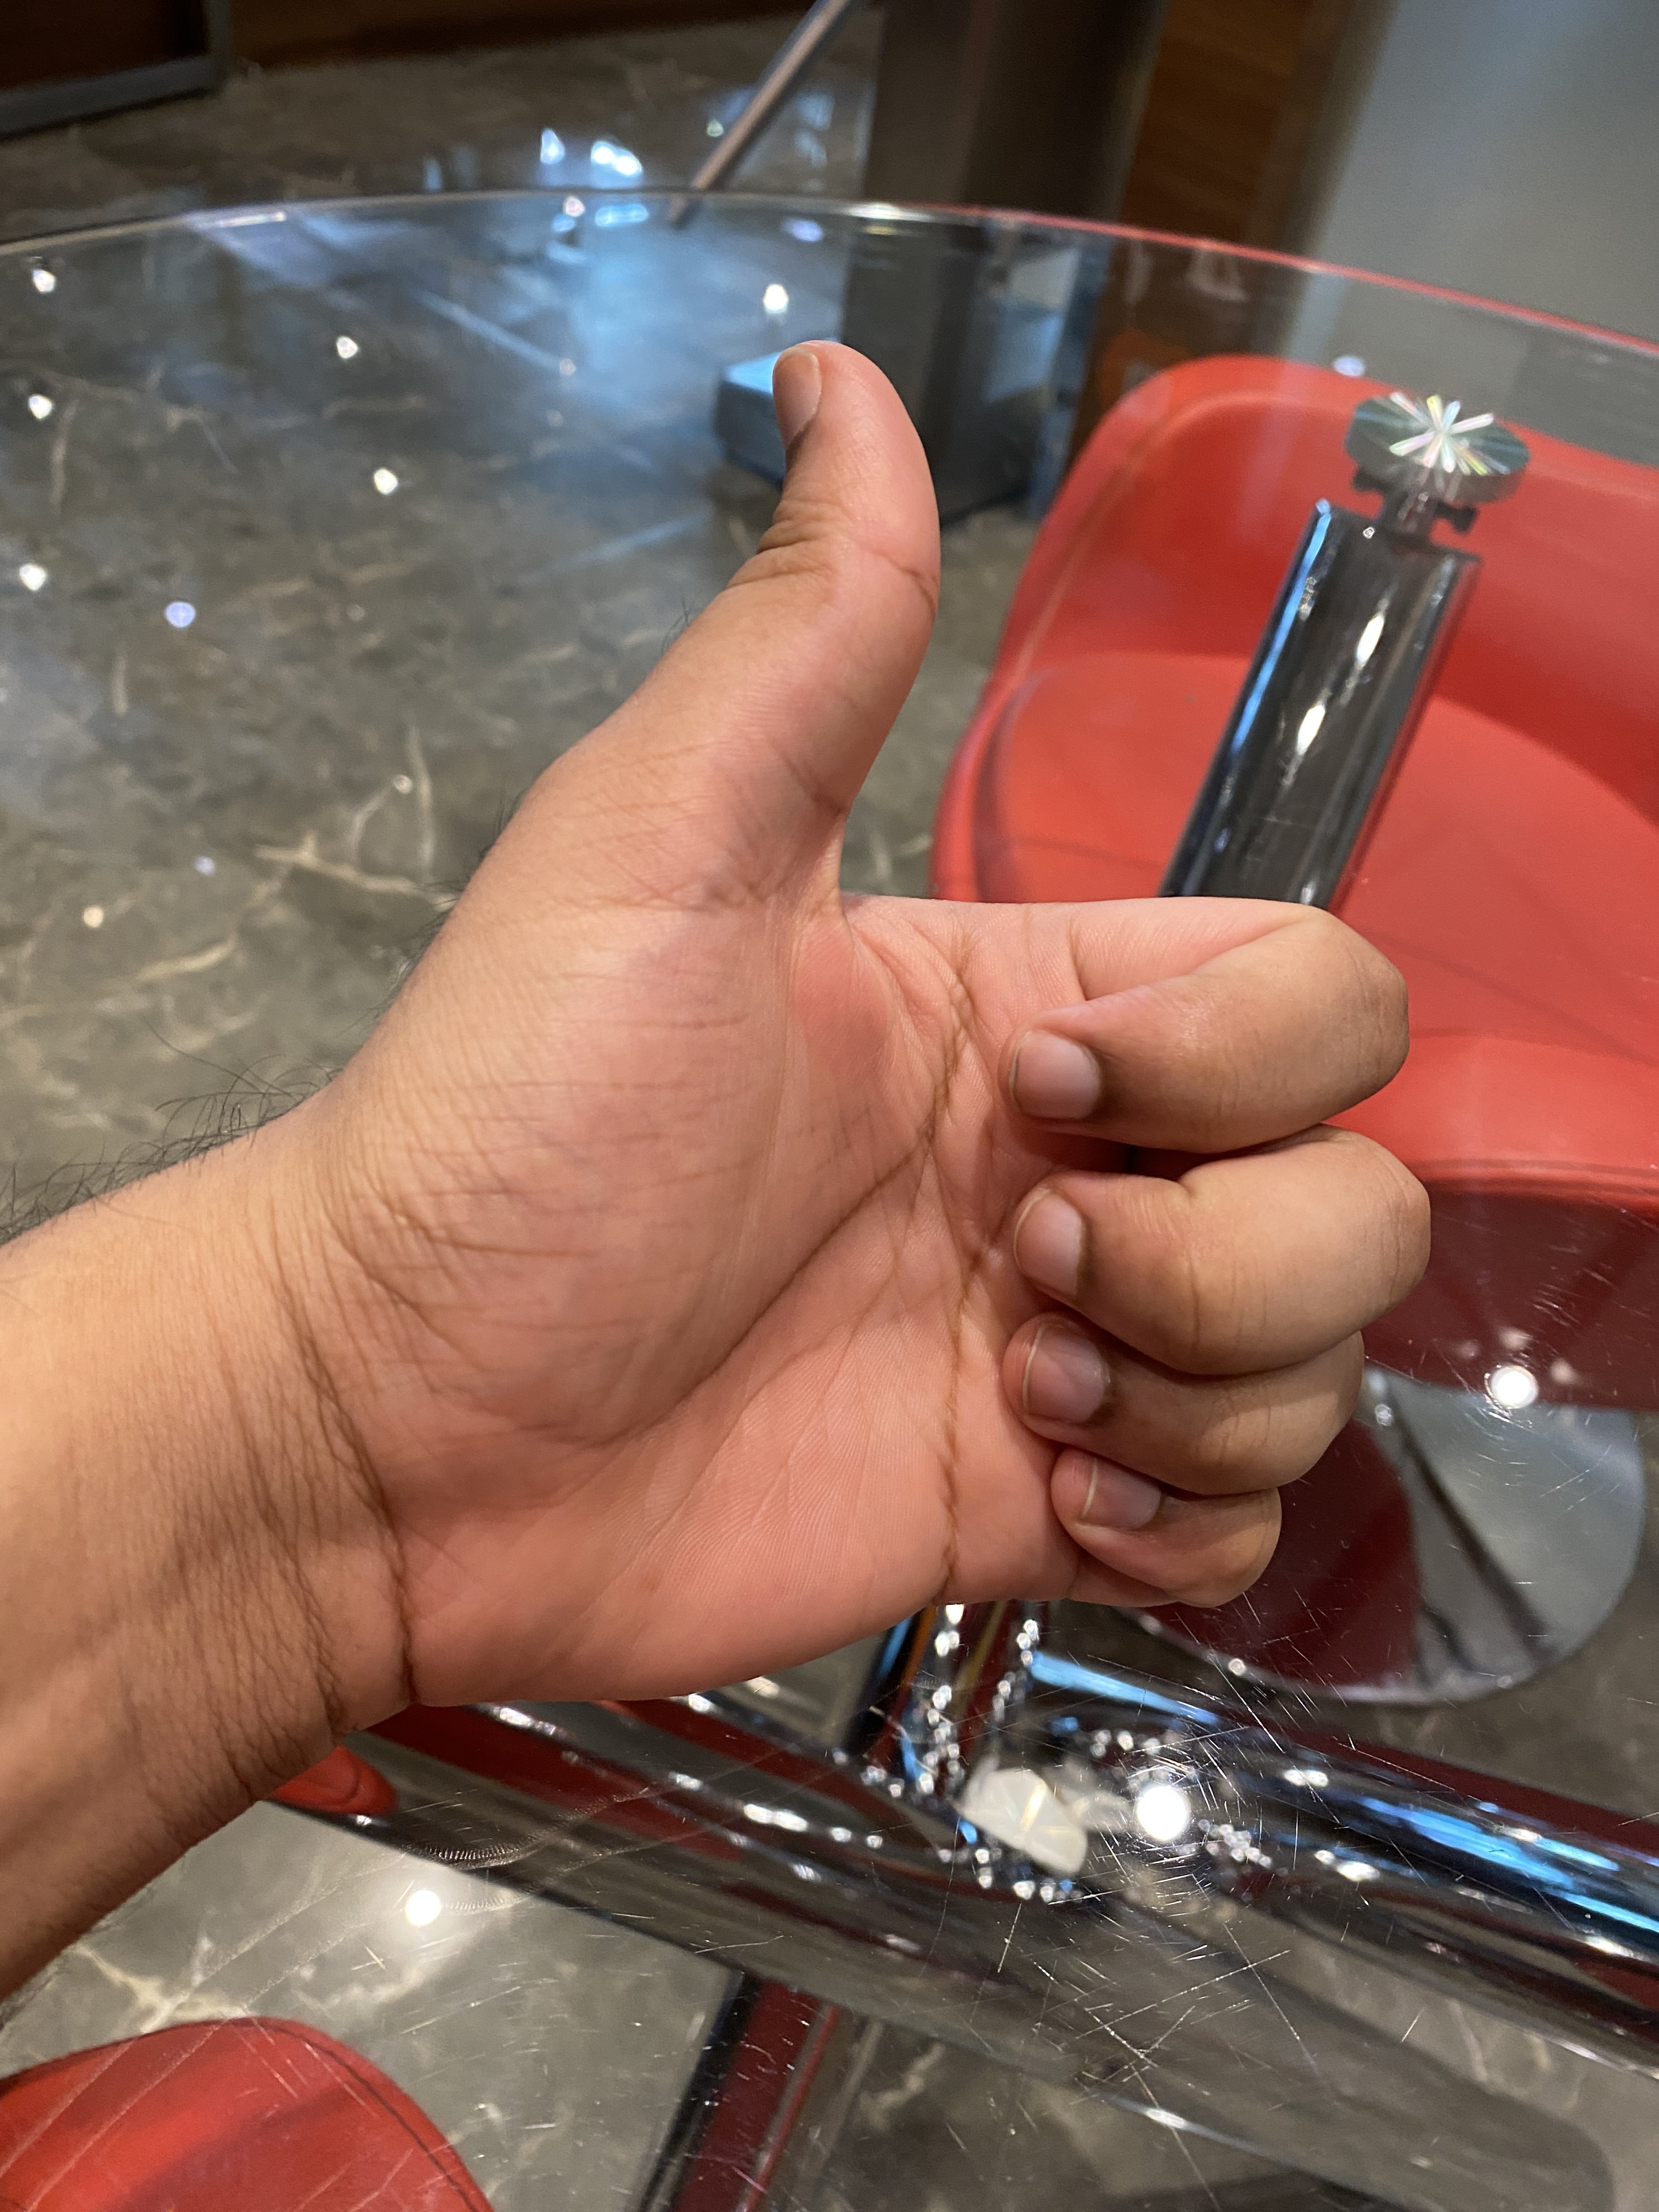up: (21, 251, 1495, 1926)
